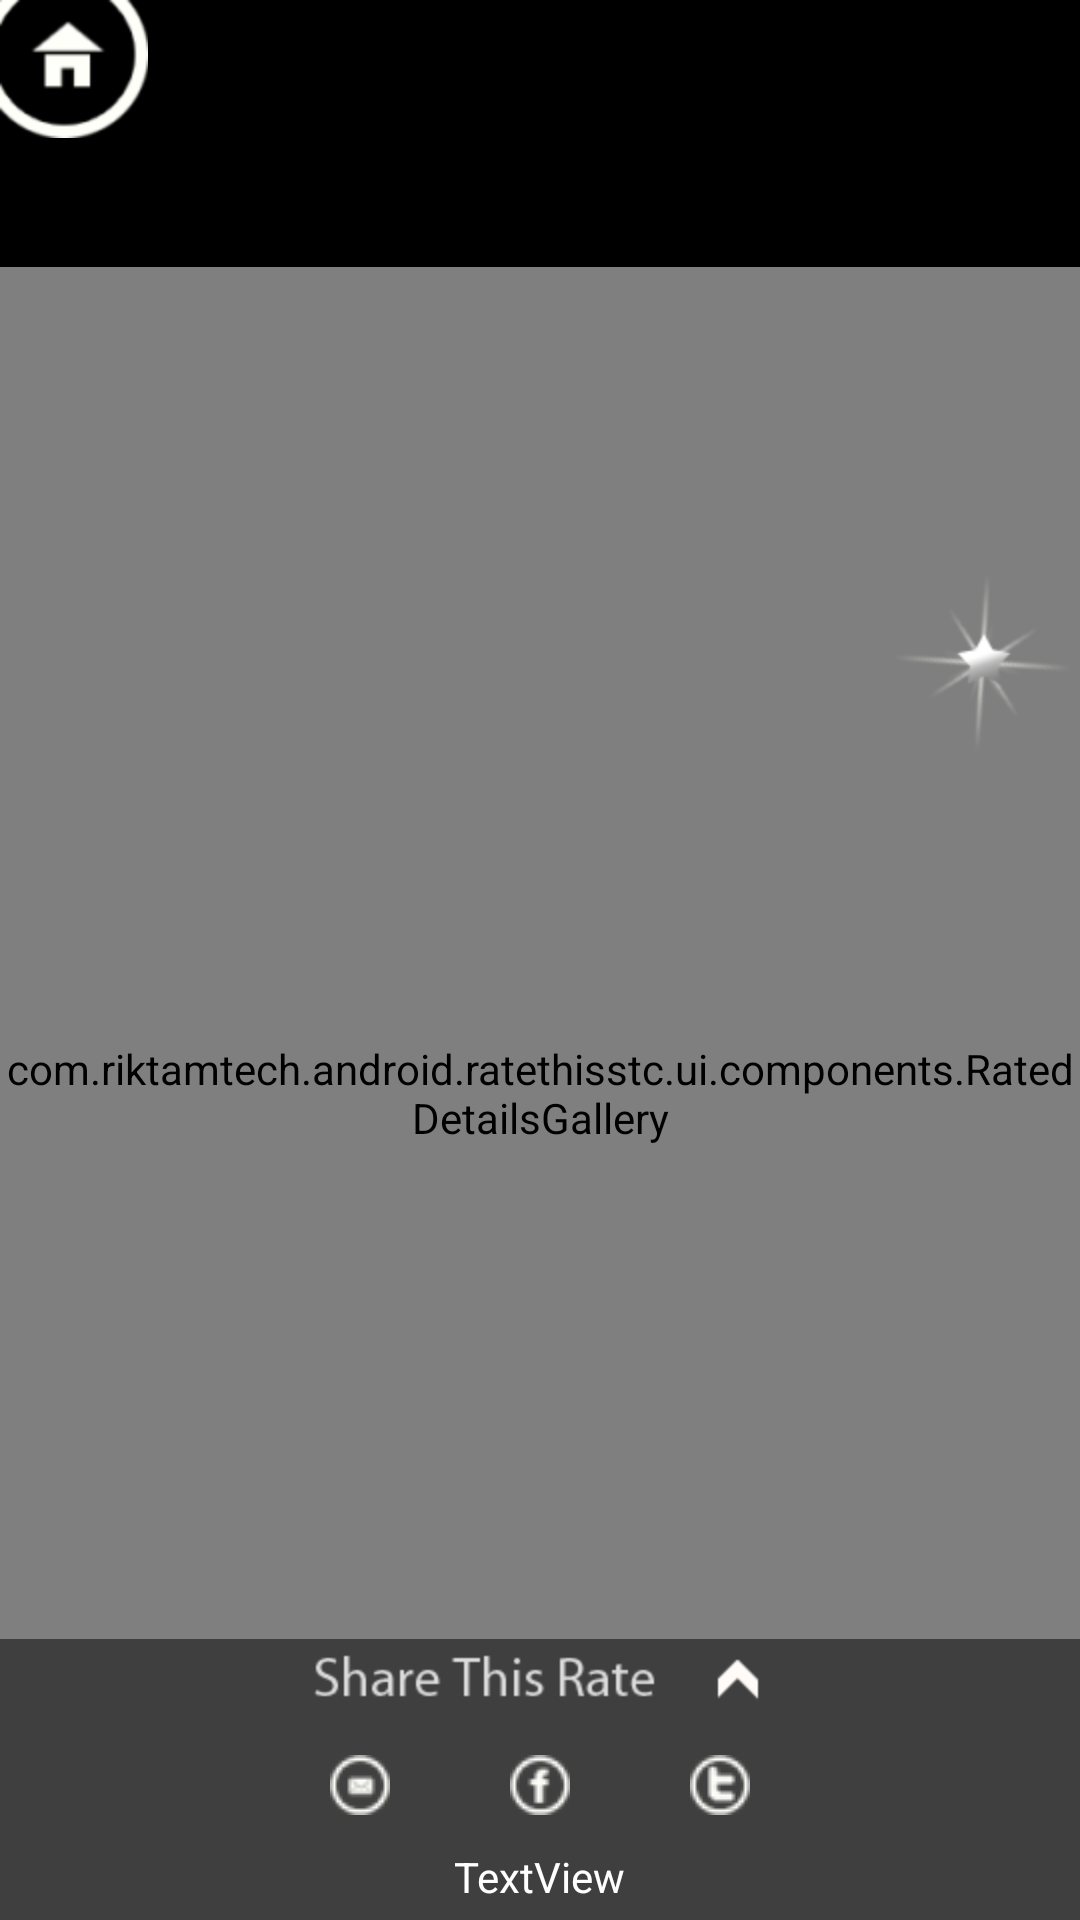

Where icons sit on this 1080x1920 app screen, as (x1, y1, x2, y2):
email: (330, 1755, 390, 1815)
star: (922, 601, 1044, 726)
